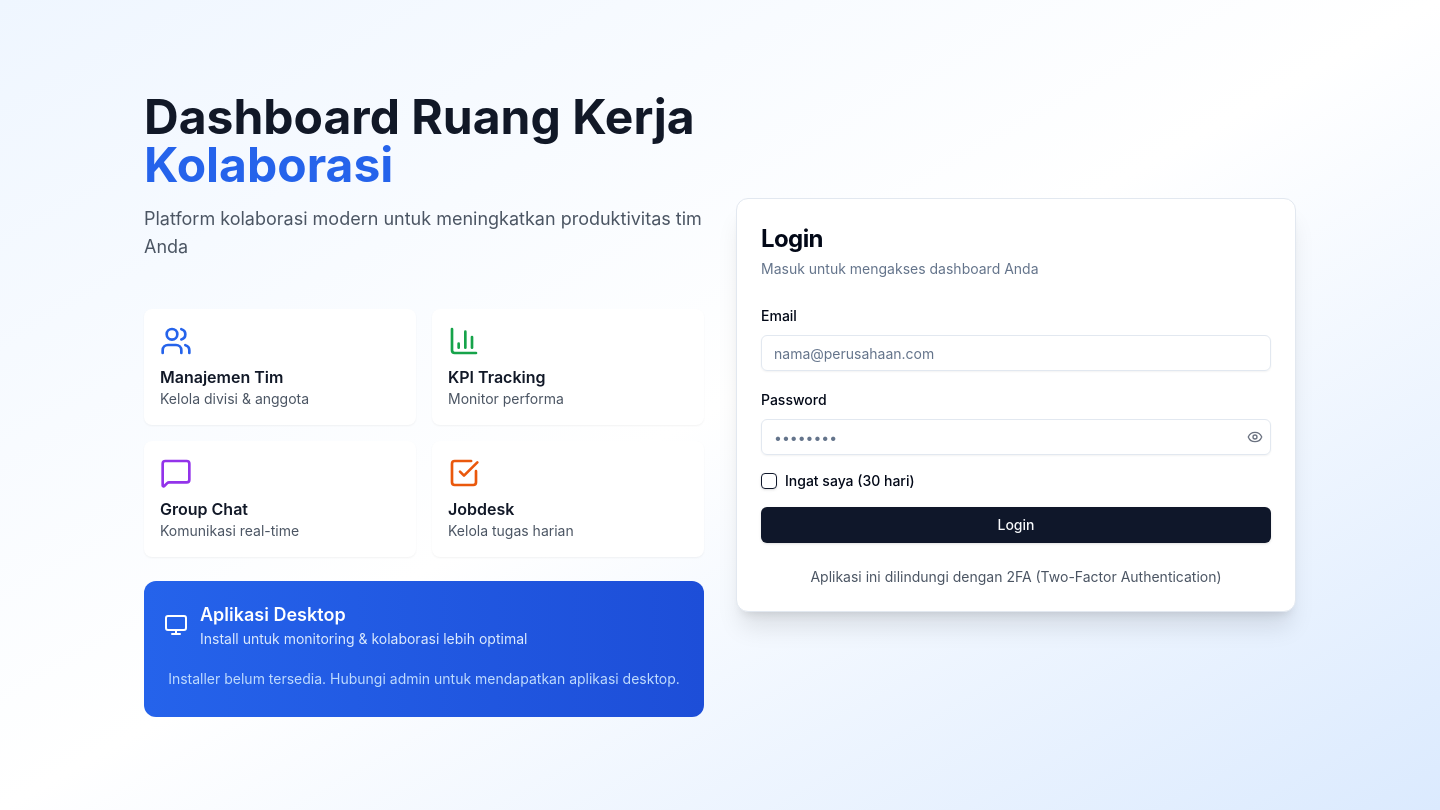
LoginPage (app/page.js) › handles 2FA flow when required
Type "test@company.com" into the field labelled "Email" at point(1016, 353), box [761,335,1271,371]
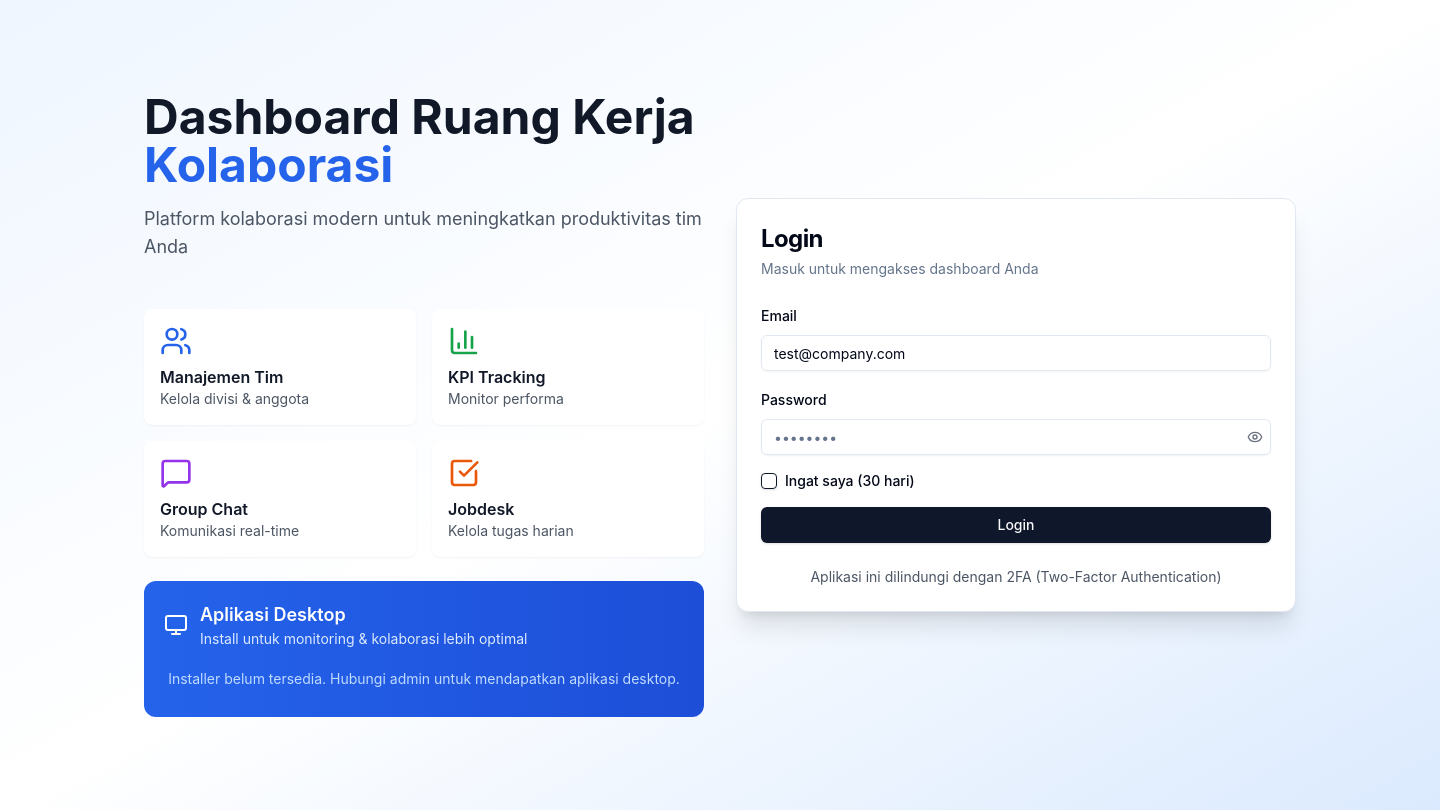
Type "password123" into the password field labelled "Password" at point(1016, 437), box [761,419,1271,455]
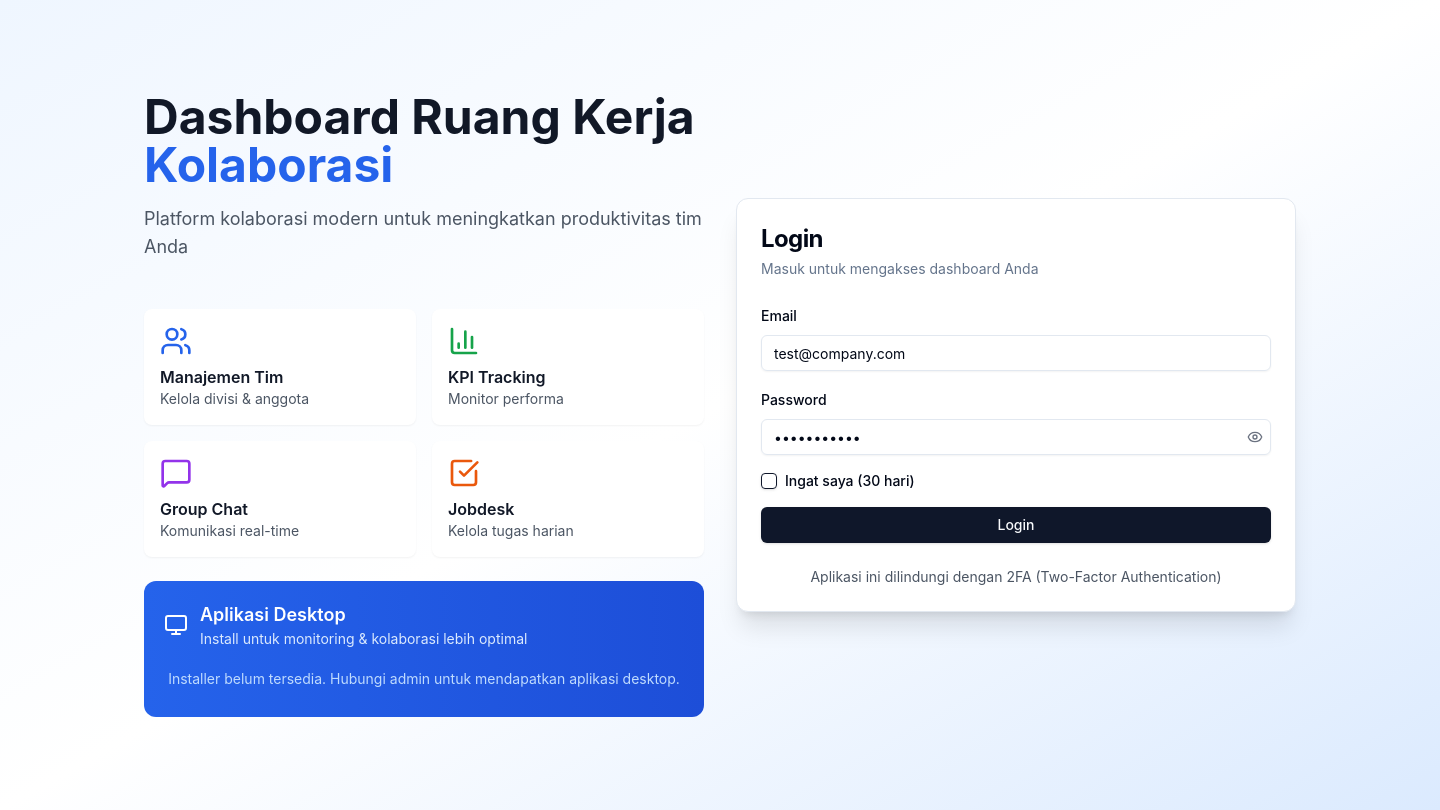
Click the button "Login" at point(1016, 525), box [761,507,1271,543]
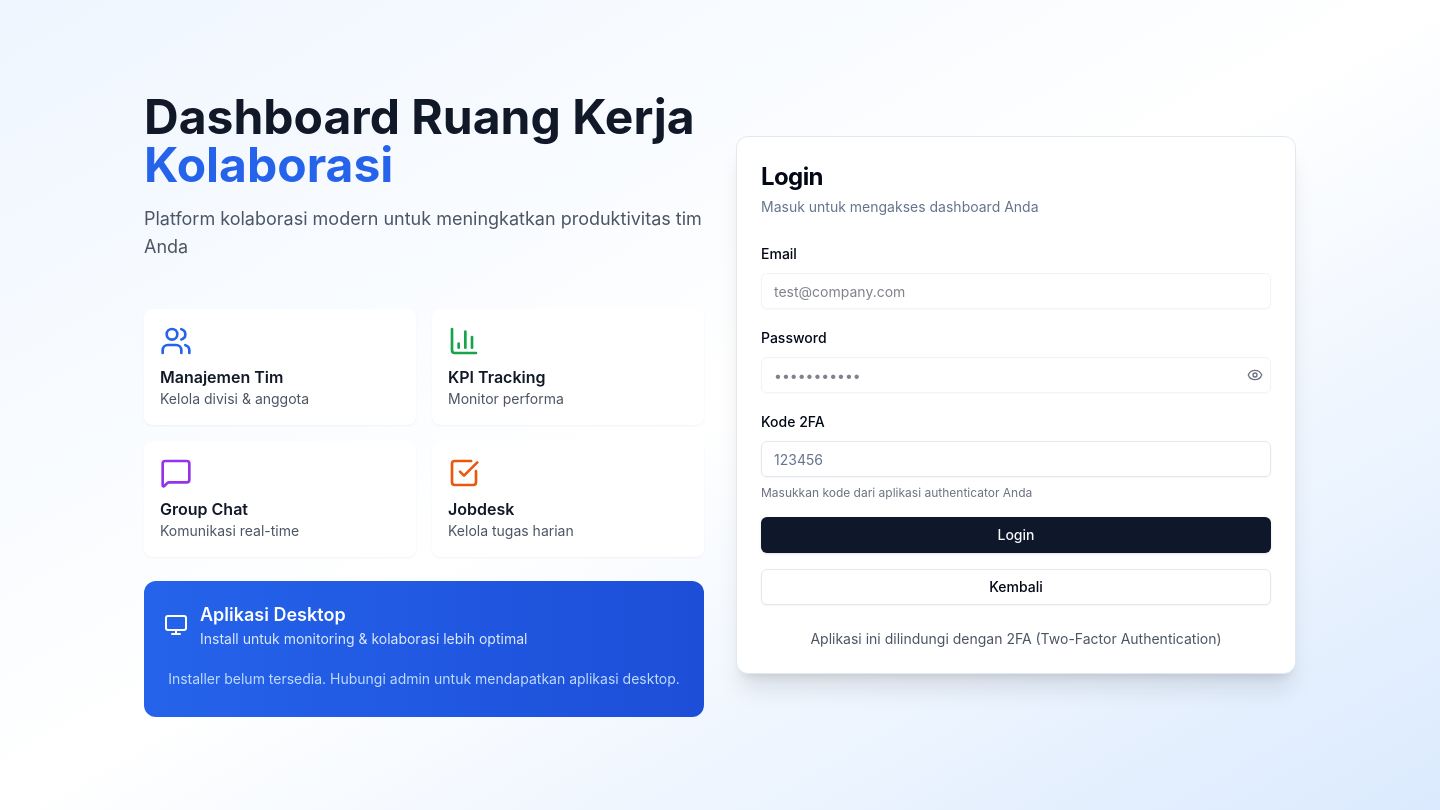
Now the field labelled "Kode 2FA" is shown, box [761,441,1271,477]
